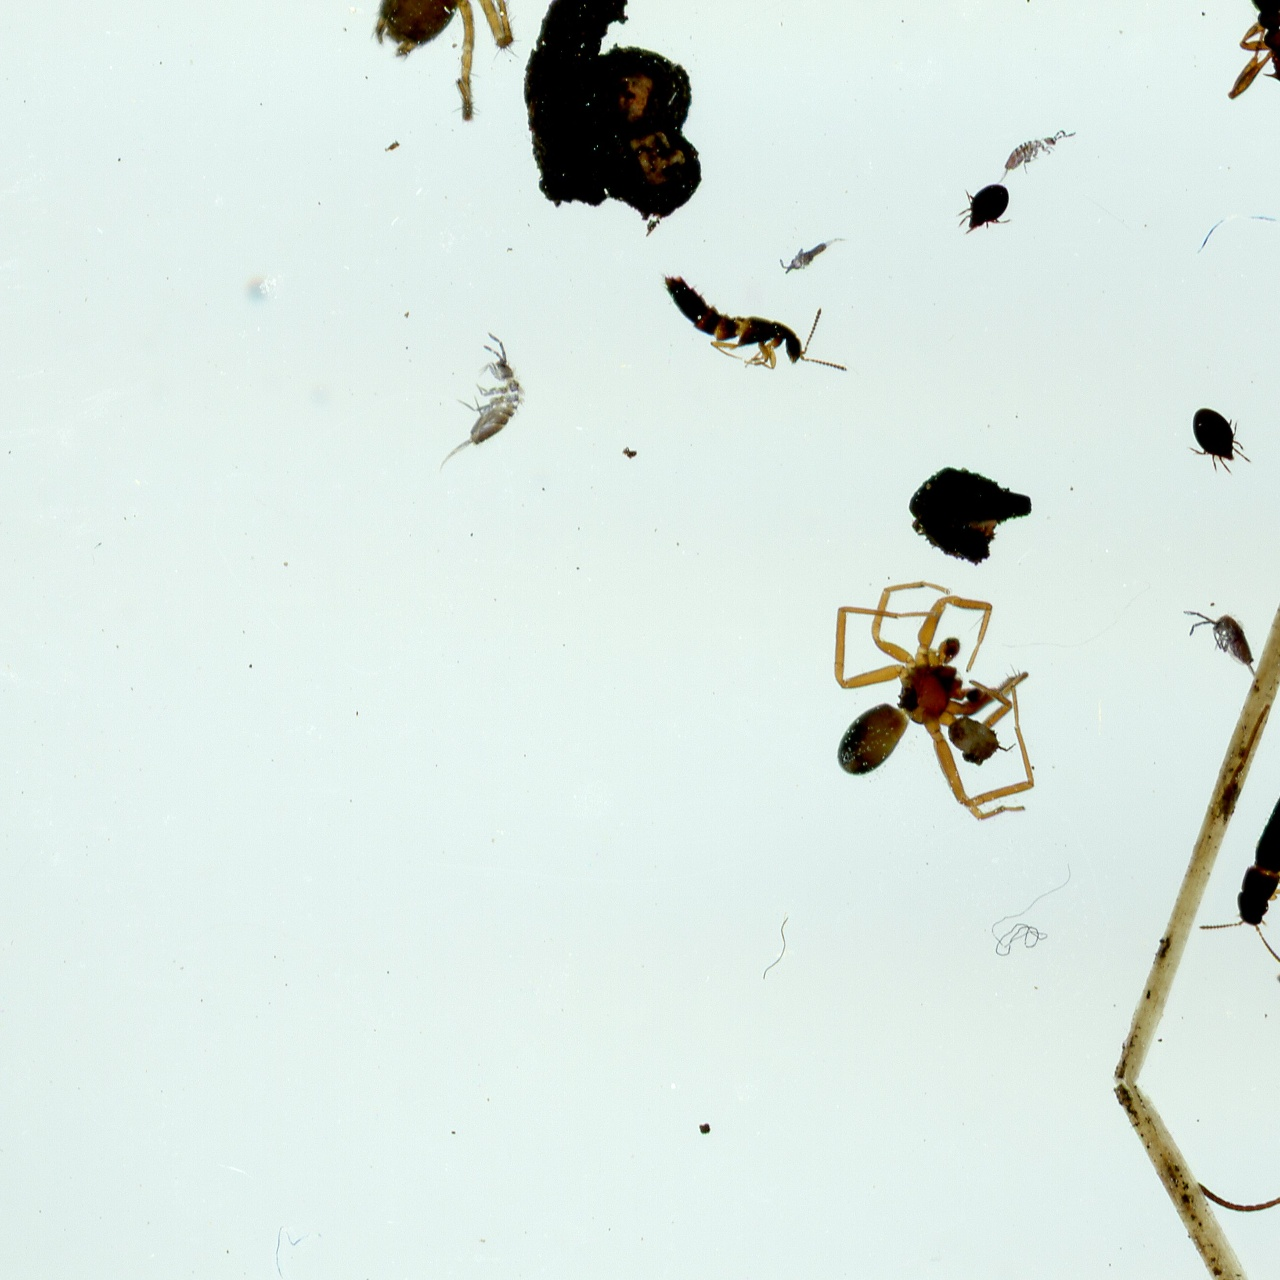arthropod: (824, 579, 1037, 824), (1186, 901, 1280, 1265), (320, 0, 567, 129), (647, 259, 870, 395), (1190, 747, 1280, 973), (431, 320, 543, 490), (1169, 393, 1264, 493), (1224, 0, 1280, 148), (1179, 604, 1259, 688), (948, 171, 1026, 250), (994, 122, 1078, 186), (772, 232, 851, 277)
